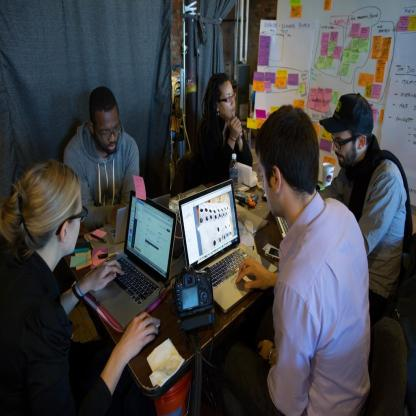board: (178, 178, 277, 312), (89, 190, 177, 328), (104, 192, 170, 244), (322, 160, 334, 186), (230, 154, 237, 196)
